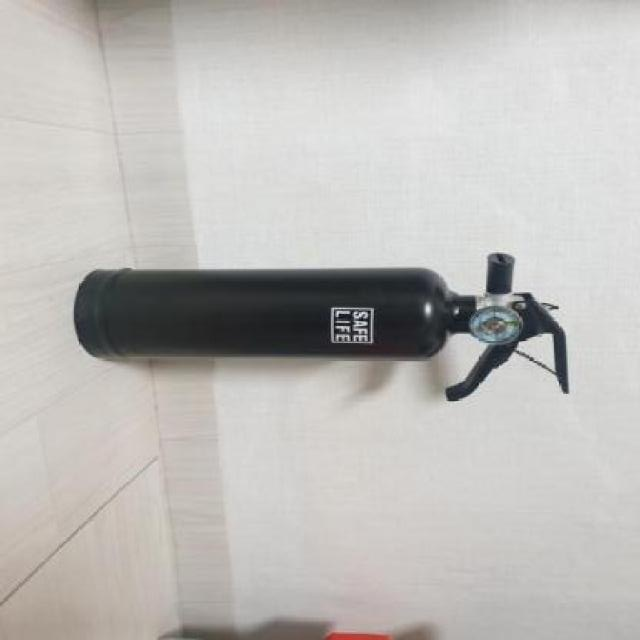fire extinguisher: (72, 253, 571, 402)
